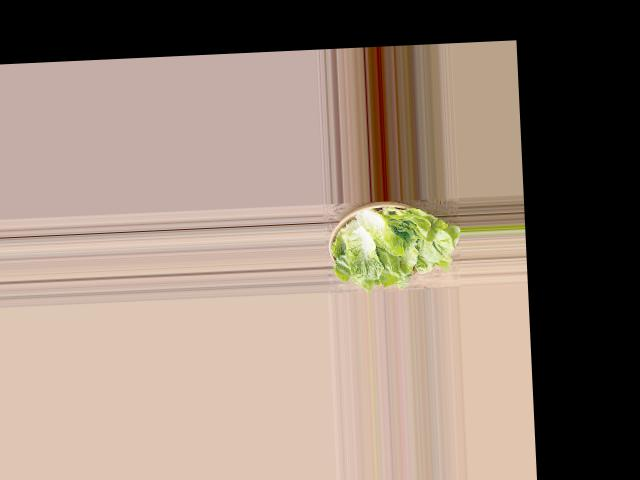lettuce: (321, 199, 460, 289)
